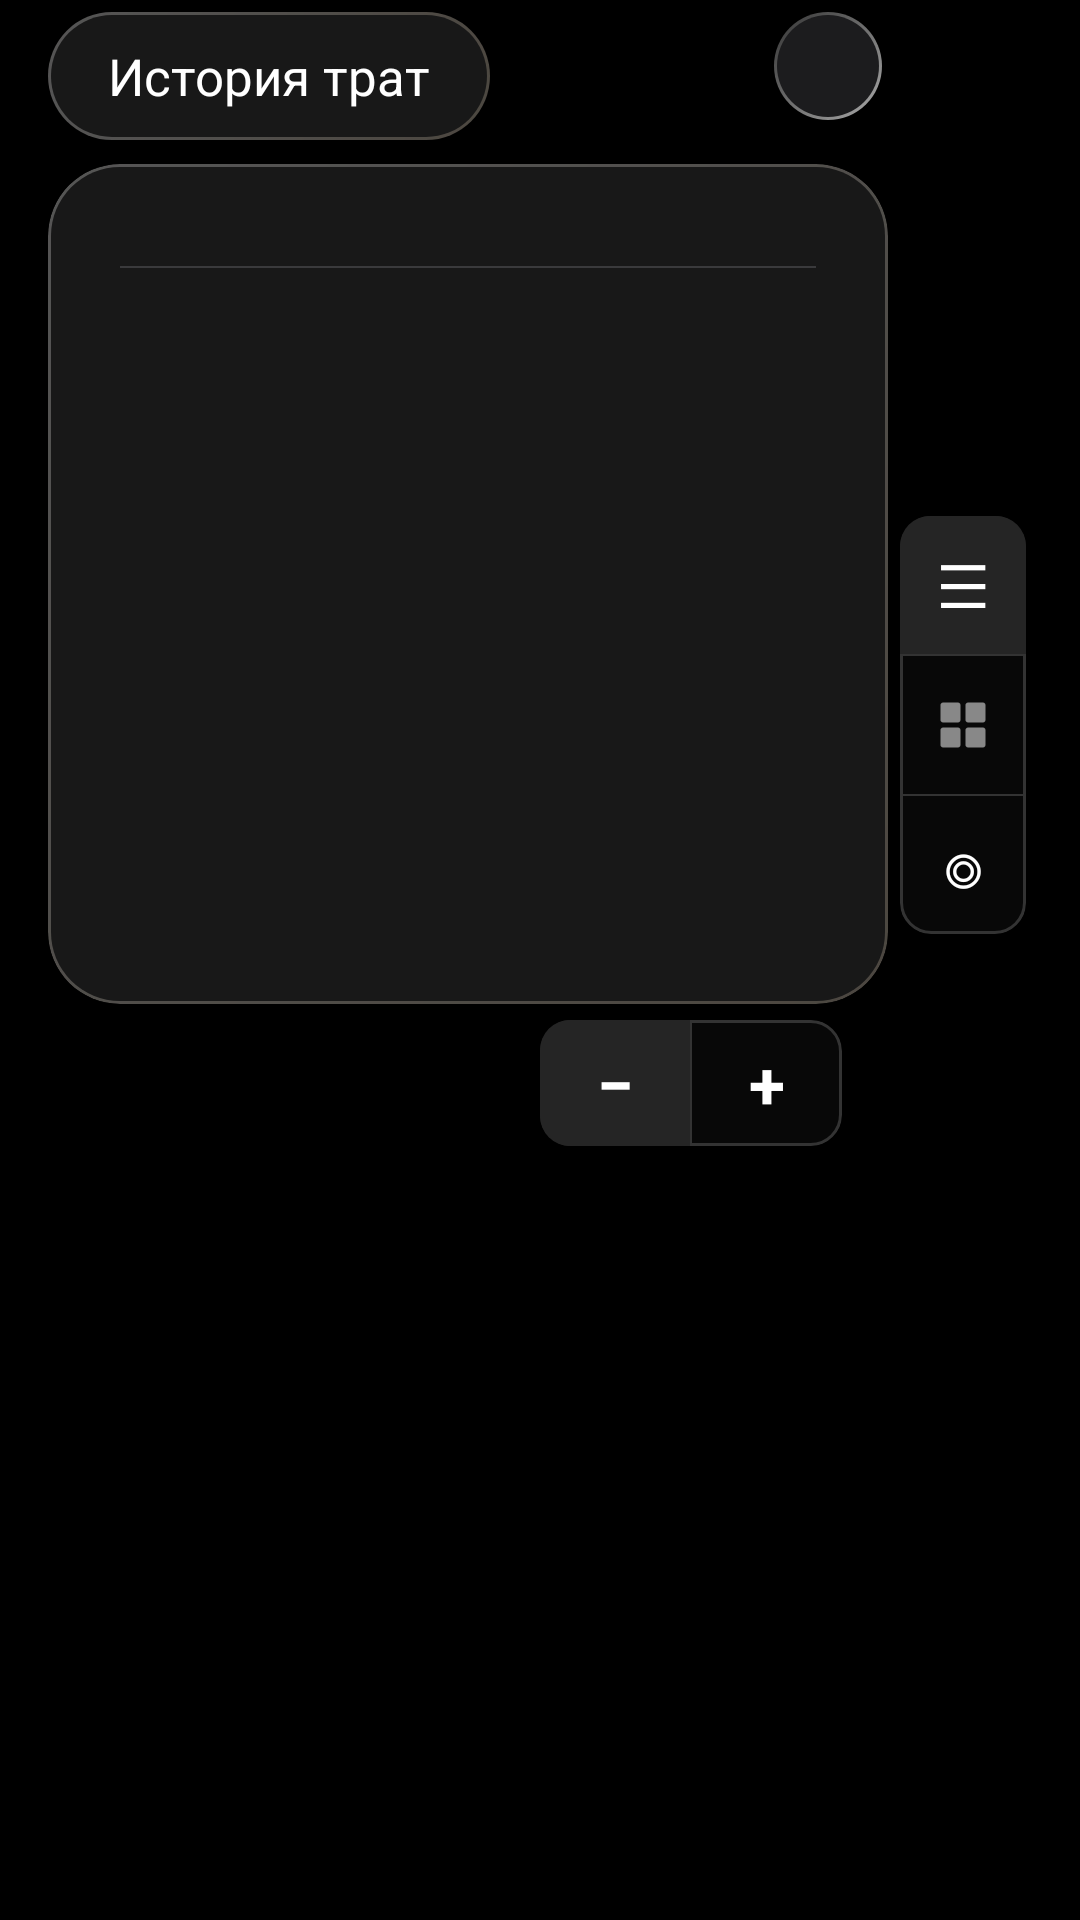

Named icons in this screenshot (1080*1920) and their centers, (x=x, y=y):
grid: (x=963, y=725)
